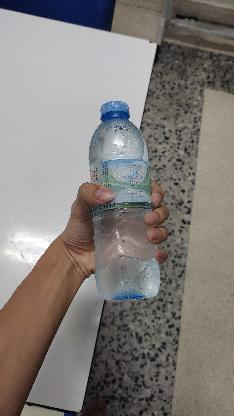Plastic Bottle: (86, 99, 164, 303)
